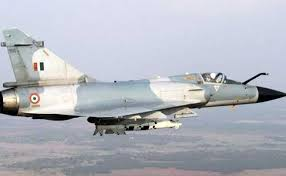maybay_muctieu: (1, 29, 286, 133)
